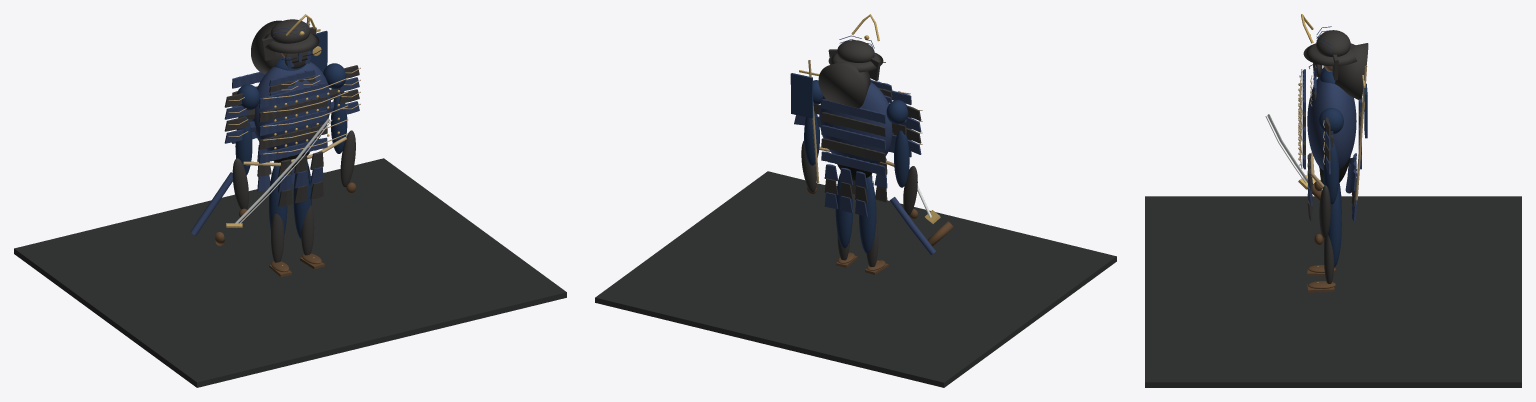
Rendered from actor-uesugi-03.glb.
The picture shows the model from 3 angles, left to right: view 1: azimuth 30°, elevation 25°; view 2: azimuth 150°, elevation 25°; view 3: azimuth 270°, elevation 25°; orthographic projection. The views are drawn at different scales.
Visible parts, largest first — view 1: matte charcoal inspection plinth, rounded do cuirass silhouette, rear shikoro neck guard flare, segmented kabuto helmet bowl, right armored upper arm, right kote forearm guard, left kote forearm guard, wide kabuto brim, left hakama trouser leg, right hakama trouser leg, left armored upper arm, left shin greave (+2 smaller); view 2: matte charcoal inspection plinth, rear shikoro neck guard flare, rounded do cuirass silhouette, cloth sashimono banner panel, left hakama trouser leg, left armored upper arm, segmented kabuto helmet bowl, right hakama trouser leg, right armored upper arm, left kote forearm guard, lacquered saya scabbard at left hip; view 3: matte charcoal inspection plinth, rounded do cuirass silhouette, rear shikoro neck guard flare, segmented kabuto helmet bowl, right hakama trouser leg, wide kabuto brim, right armored upper arm, right kote forearm guard, right shoulder undercloth, right shin greave, bamboo sashimono back pole.
Part boxes in pixels (x1,y1,x2,y2): matte charcoal inspection plinth: (14,158,566,387); rounded do cuirass silhouette: (252,62,330,151); rear shikoro neck guard flare: (251,20,283,74); segmented kabuto helmet bowl: (270,19,310,43); right armored upper arm: (330,93,347,153); right kote forearm guard: (340,130,355,187); left kote forearm guard: (232,158,248,209); wide kabuto brim: (261,33,319,53); left hakama trouser leg: (269,166,287,234); right hakama trouser leg: (293,163,311,239); left armored upper arm: (235,116,252,175); left shin greave: (271,213,284,262); matte charcoal inspection plinth: (595,171,1116,387); rear shikoro neck guard flare: (818,61,870,108); rounded do cuirass silhouette: (819,82,893,164); cloth sashimono banner panel: (790,73,813,118); left hakama trouser leg: (859,176,876,253); left armored upper arm: (894,130,909,187); segmented kabuto helmet bowl: (837,40,874,62); right hakama trouser leg: (835,173,852,248); right armored upper arm: (804,112,819,165); left kote forearm guard: (903,166,917,215); lacquered saya scabbard at left hip: (889,197,935,254); matte charcoal inspection plinth: (1145,196,1521,387); rounded do cuirass silhouette: (1307,76,1356,170); rear shikoro neck guard flare: (1335,43,1368,99); segmented kabuto helmet bowl: (1316,30,1350,56); right hakama trouser leg: (1328,189,1341,267); wide kabuto brim: (1303,43,1356,66); right armored upper arm: (1323,142,1339,204); right kote forearm guard: (1319,185,1330,238); right shoulder undercloth: (1319,108,1343,134); right shin greave: (1324,235,1334,283); bamboo sashimono back pole: (1355,66,1367,200).
Bounding box in the file's own units: 4.2 × 2.96 × 3.6.
